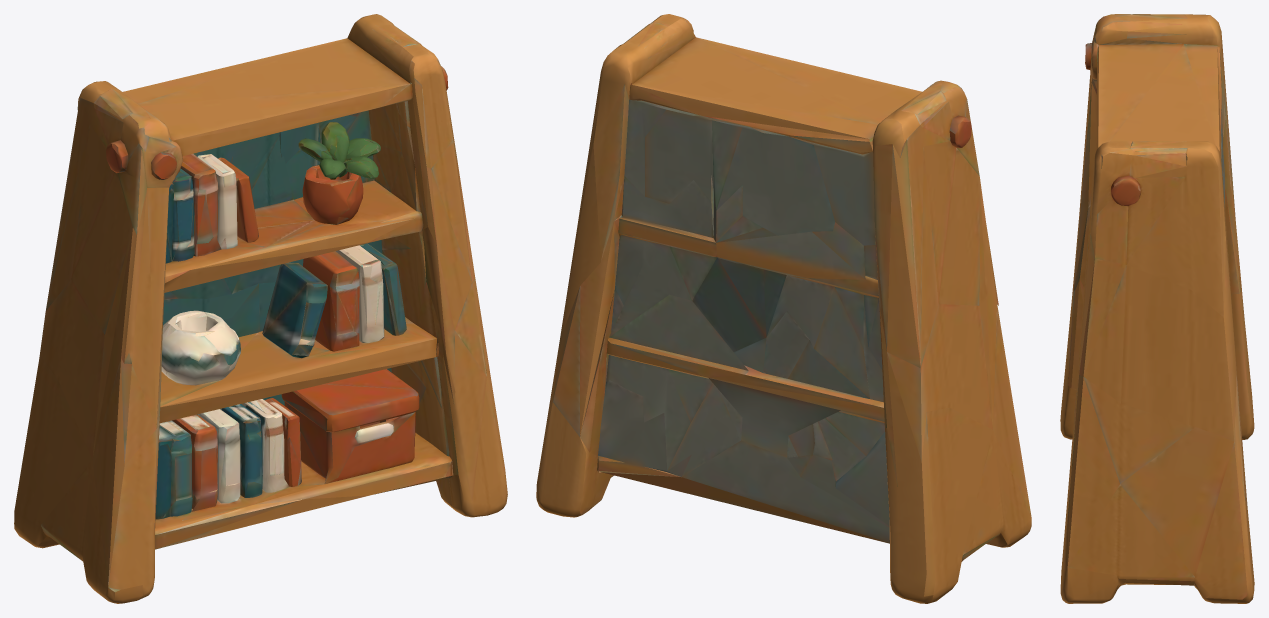
File: bookcase.glb
3 views of the same model, side by side, from view 1: azimuth 30°, elevation 25°; view 2: azimuth 150°, elevation 25°; view 3: azimuth 270°, elevation 25° (orthographic). The views are drawn at different scales.
Visible parts, largest first — view 1: Mesh_0; view 2: Mesh_0; view 3: Mesh_0.
Part boxes in pixels (x1,y1,x2,y2): Mesh_0: [14, 14, 507, 603]; Mesh_0: [536, 14, 1031, 603]; Mesh_0: [1060, 14, 1254, 603].
Size of the model in its own units: 0.9208 by 1 by 0.4043.
Materials: 1 (1 with a texture image).
